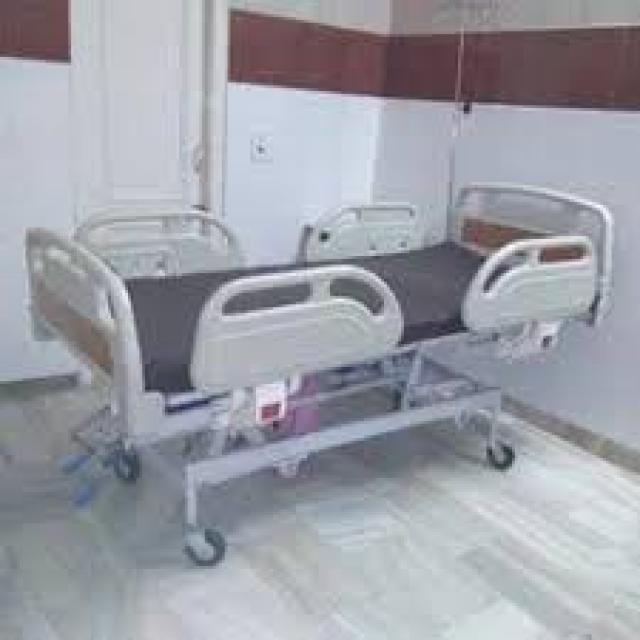bed: (22, 179, 614, 563)
